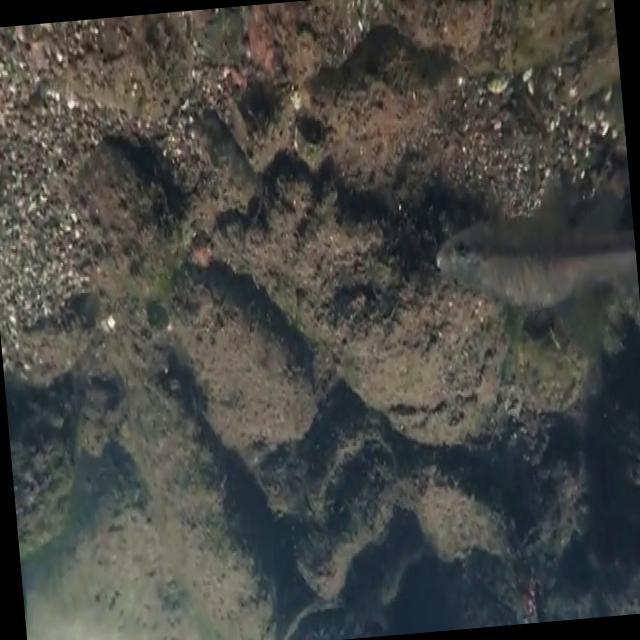Cakil Baligi: (425, 184, 640, 335)
